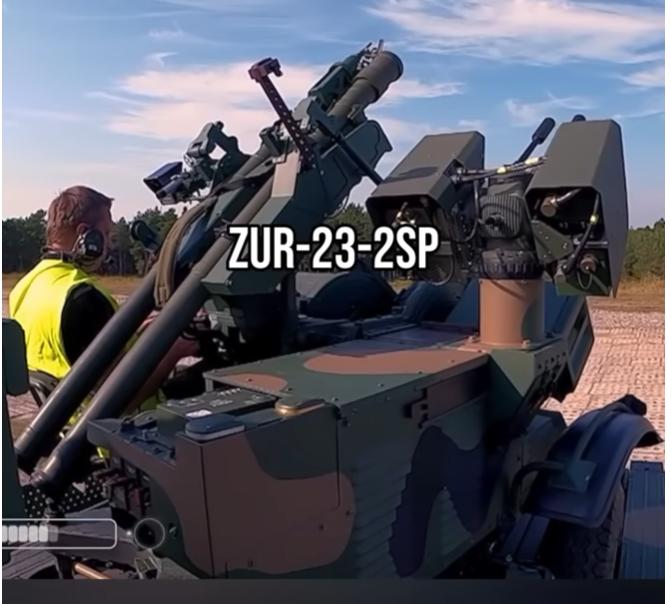MIL_SPG: (17, 45, 659, 578)
